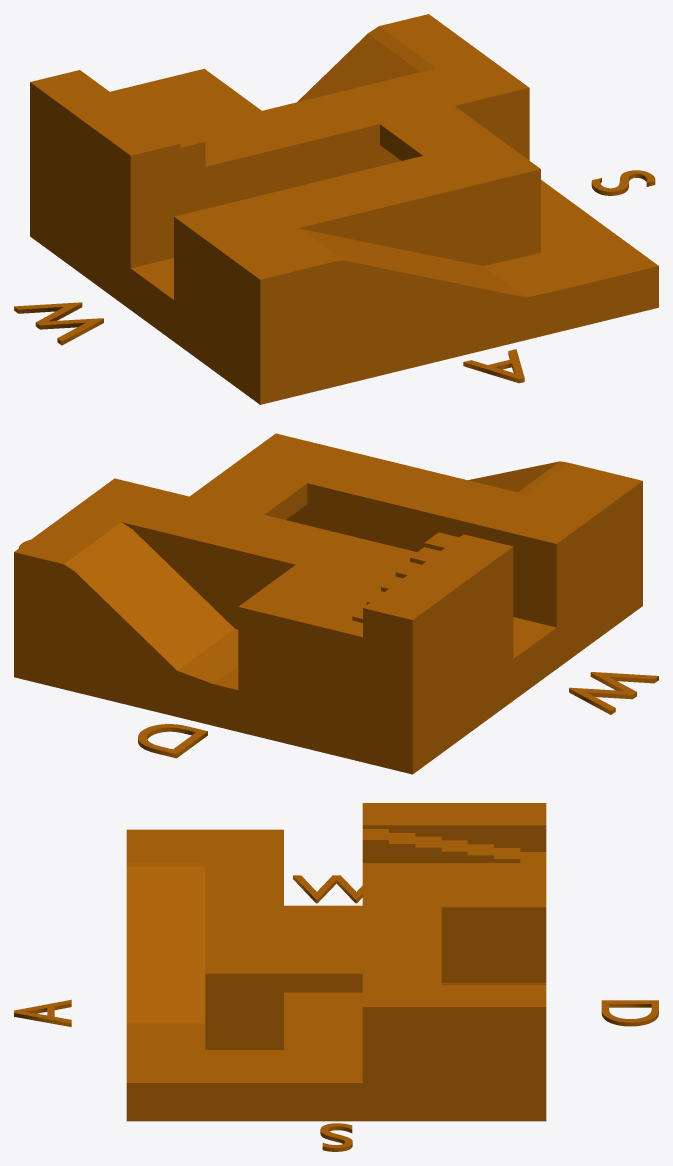
File: demo-level.glb
The picture shows the model from 3 angles, top to bottom: view 1: azimuth 30°, elevation 25°; view 2: azimuth 150°, elevation 25°; view 3: azimuth 270°, elevation 25°; orthographic projection. The views are drawn at different scales.
Parts seen in each view (by area): view 1: Cube, Text, Text.002, Text.001; view 2: Cube, Text, Text.003; view 3: Cube, Text.003, Text, Text.002, Text.001.
Part boxes in pixels (bbox=[...]): Cube: bbox=[30, 14, 658, 404]; Text: bbox=[14, 302, 103, 345]; Text.002: bbox=[463, 349, 524, 383]; Text.001: bbox=[591, 170, 655, 195]; Cube: bbox=[14, 433, 642, 774]; Text: bbox=[569, 672, 658, 714]; Text.003: bbox=[138, 724, 207, 758]; Cube: bbox=[126, 803, 546, 1121]; Text.003: bbox=[601, 1000, 658, 1026]; Text: bbox=[293, 875, 362, 903]; Text.002: bbox=[14, 999, 71, 1026]; Text.001: bbox=[320, 1123, 352, 1151].
Bounding box in the file's own units: 30.78 × 7.4 × 30.74.
